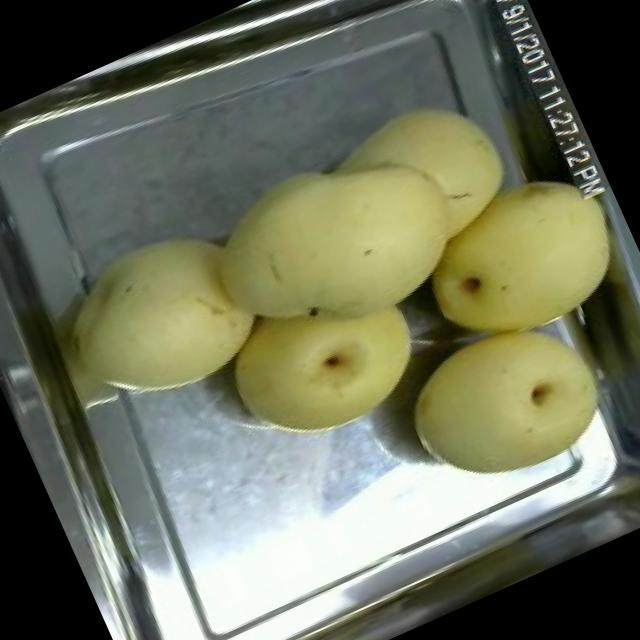Fruit: (190, 65, 557, 376), (377, 283, 638, 526), (386, 138, 640, 380), (36, 198, 284, 436), (201, 249, 453, 472)
